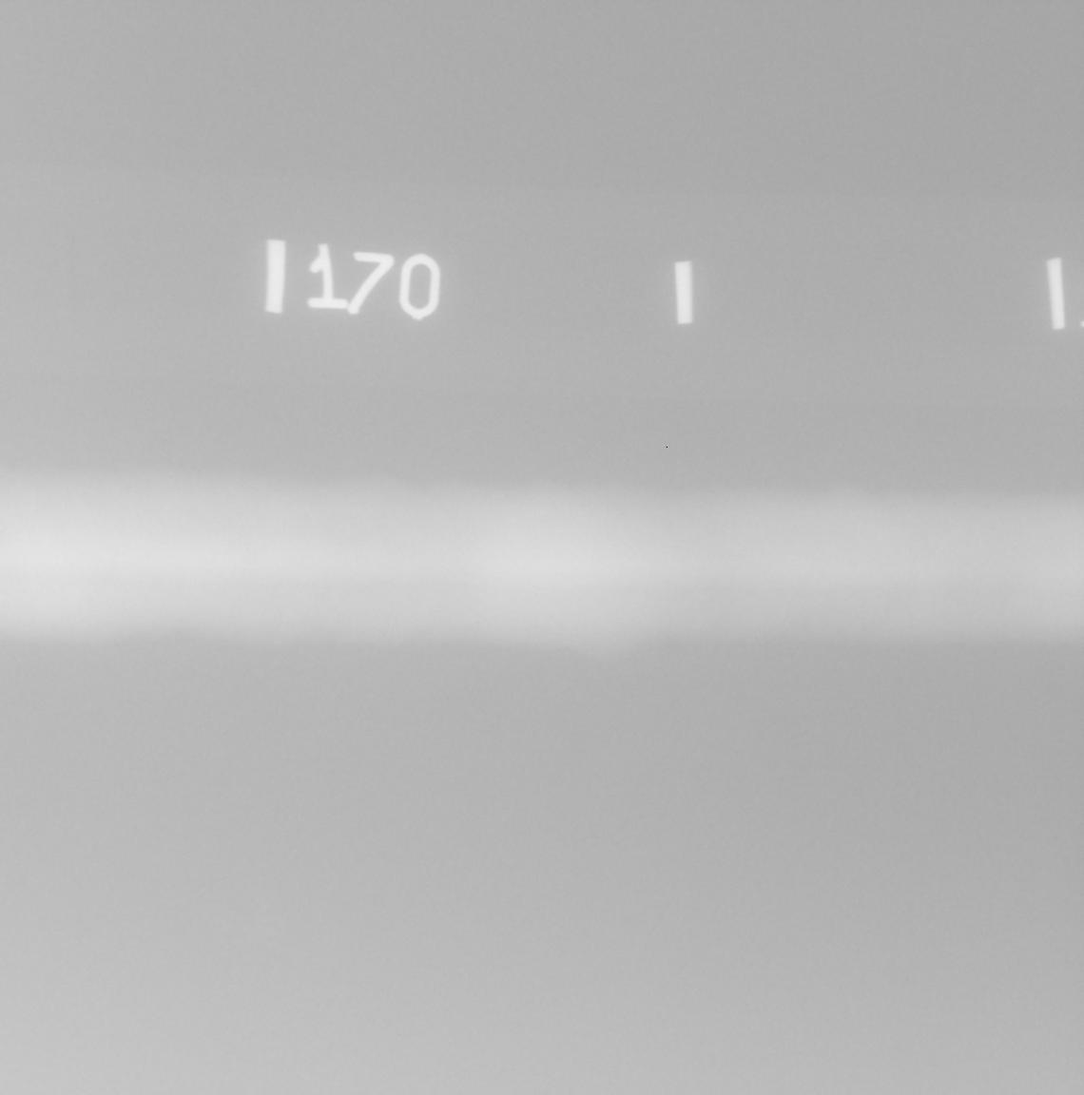Pore/Porosity: (125, 483, 132, 489)
